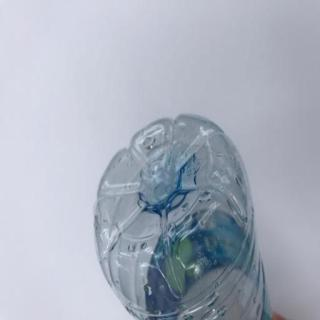Plastic-bottle: (92, 112, 277, 320)
